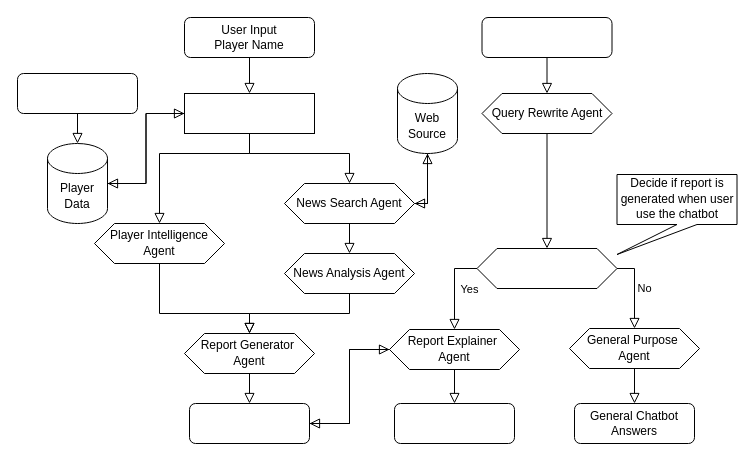
Image size: 755x461. Some labels were removed from this diagram. Each missing label, with the centre of its shape:
"Chatbot Answers Based on Report" goes at [454,423].
"Data Retrieval Module" goes at [249,113].
"Generated Report" goes at [249,423].
"Machine Learning Result" goes at [77,93].
"Router Agent" goes at [546,268].
"User Chatbot Query" goes at [546,37].
